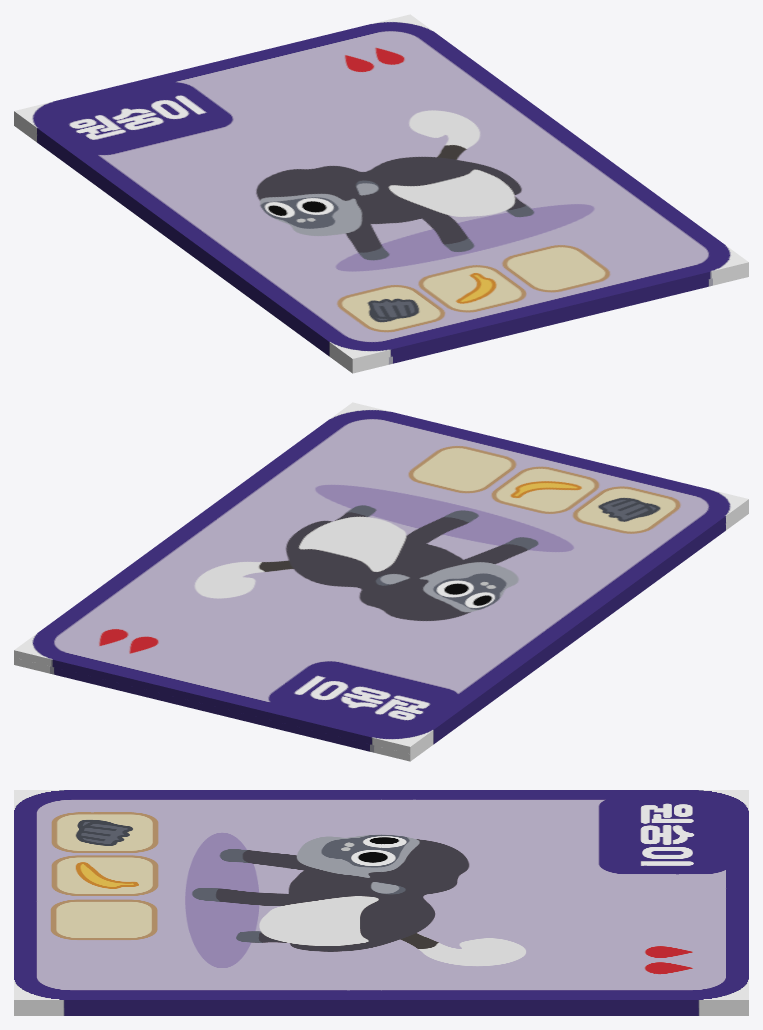
The model's file is MonkeyCard.fbx.
3 renders of one model, top to bottom at view 1: azimuth 30°, elevation 25°; view 2: azimuth 150°, elevation 25°; view 3: azimuth 270°, elevation 25°, orthographic. The views are drawn at different scales.
Parts seen in each view (by area): view 1: Front, Back; view 2: Front, Back; view 3: Front, Back.
Part boxes in pixels (x1,y1,x2,y2): Front: [14, 14, 748, 366]; Back: [14, 118, 748, 373]; Front: [14, 402, 748, 754]; Back: [14, 506, 748, 761]; Front: [14, 790, 748, 1007]; Back: [14, 1008, 748, 1015].
Bounding box in the file's own units: 4.06 × 0.1436 × 6.
